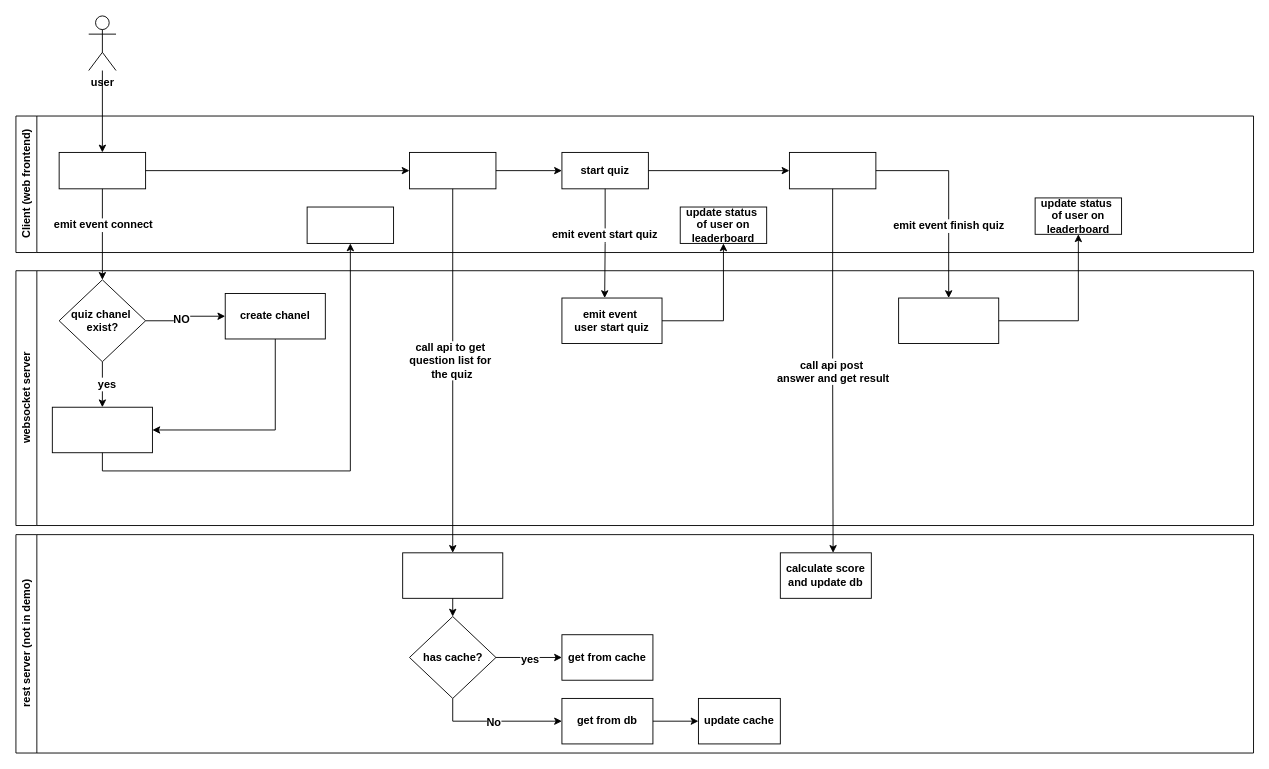
The diagram is 1269 pixels wide and 769 high, and some of its shapes have lost their labels. The shapes that lost their labels are listed below. From the top down, each one's centre as x and y in pixels, then its label:
At point (102, 170): "connect by quiz ID".
At point (452, 170): "quiz page".
At point (832, 170): "submit answers or over time".
At point (350, 224): "update list of user for quiz on leaderboard".
At point (948, 320): "emit event user update leaderboard".
At point (101, 429): "emit event add user to channel".
At point (452, 575): "api get question list for this quiz".
